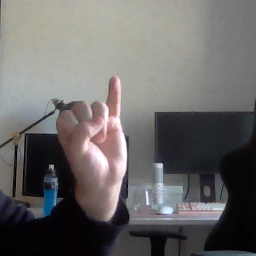I: (55, 74, 133, 183)
